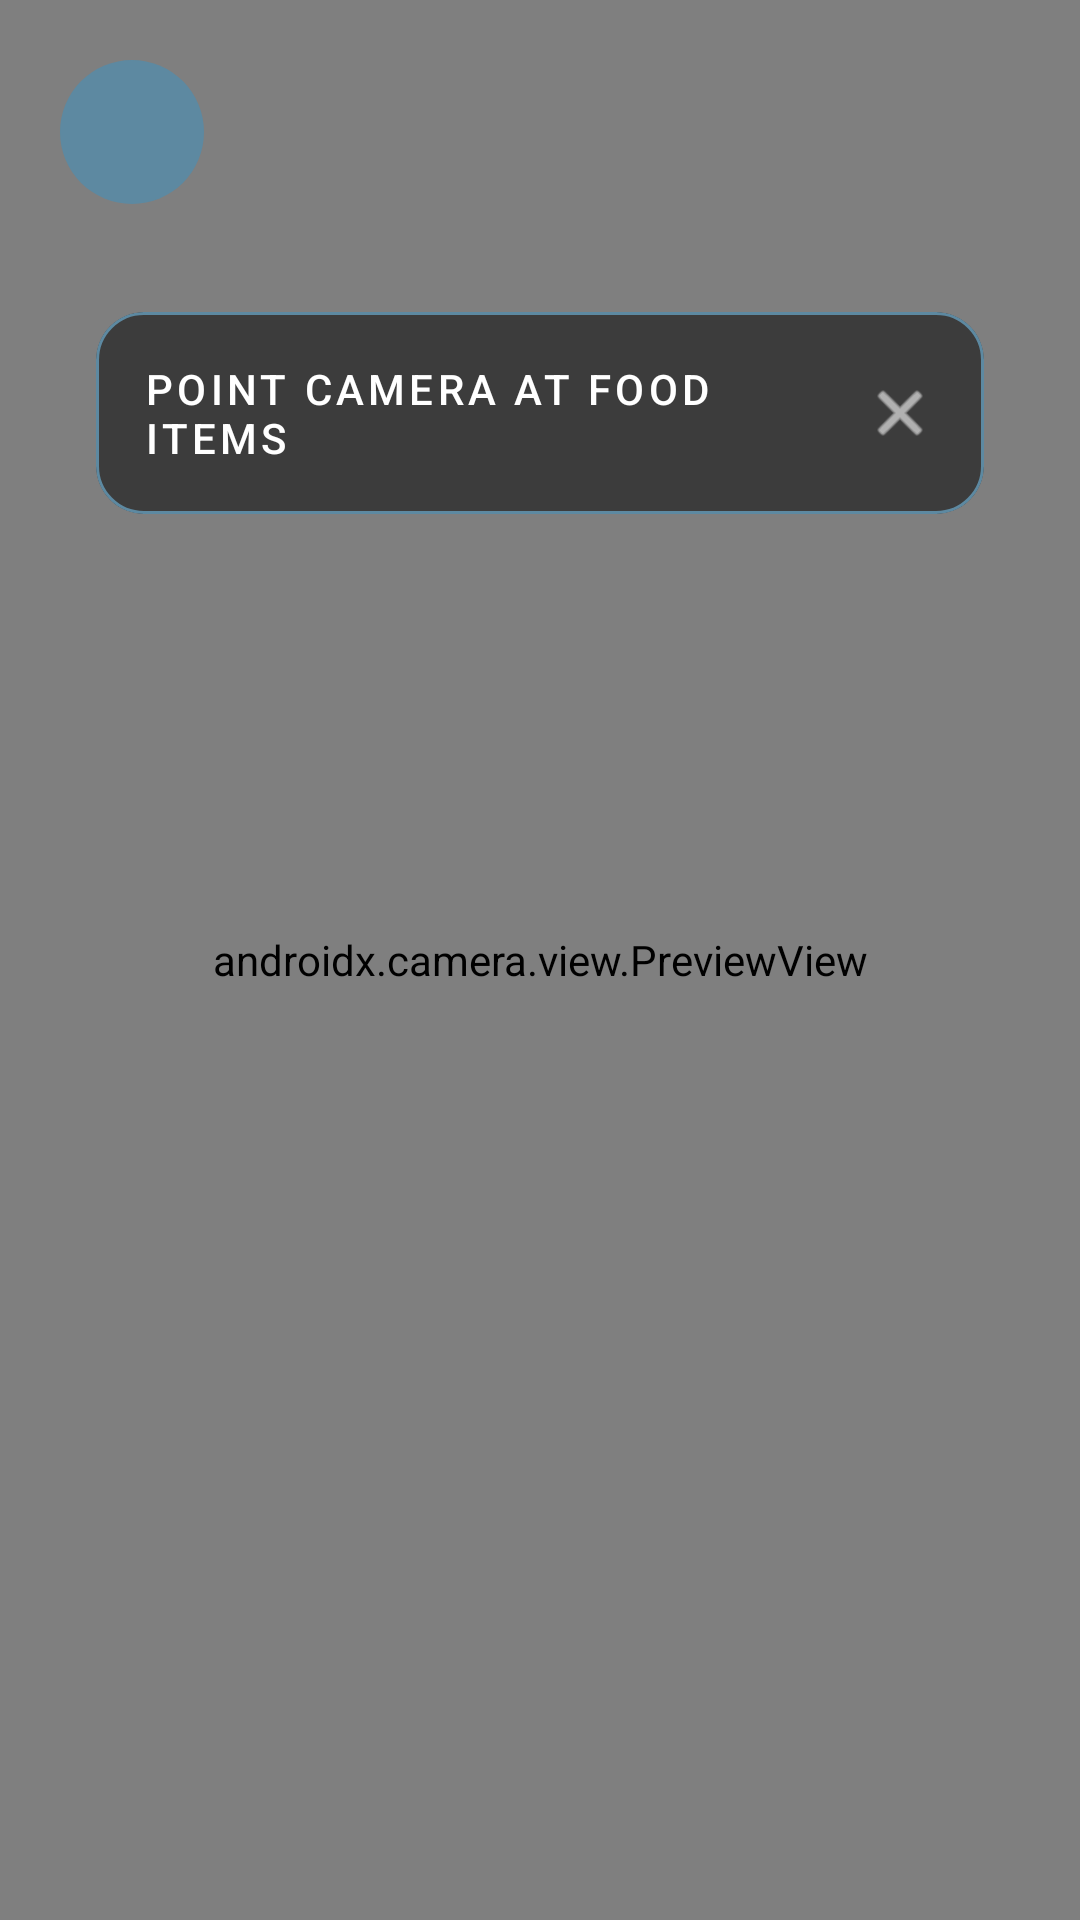

Where icons sit on this 1080×1920 app screen, as (x1, y1, x2, y2):
close clear cancel: (878, 391, 922, 435)
